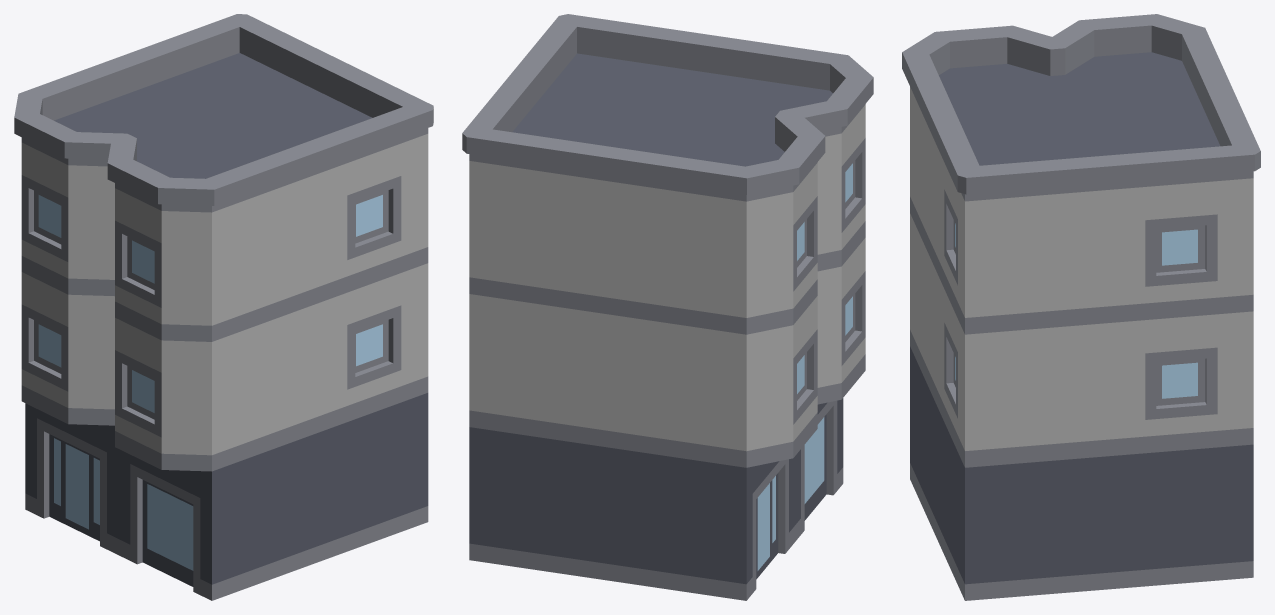
File: variant_14.fbx
3 views of the same model, side by side, from view 1: azimuth 30°, elevation 25°; view 2: azimuth 150°, elevation 25°; view 3: azimuth 270°, elevation 25° (orthographic). The views are drawn at different scales.
Parts seen in each view (by area): view 1: small_buildingA; view 2: small_buildingA; view 3: small_buildingA.
Part boxes in pixels (x1,y1,x2,y2): small_buildingA: [14, 14, 433, 600]; small_buildingA: [462, 14, 873, 600]; small_buildingA: [902, 14, 1260, 600].
Bounding box in the file's own units: 106 × 128 × 97.66.
